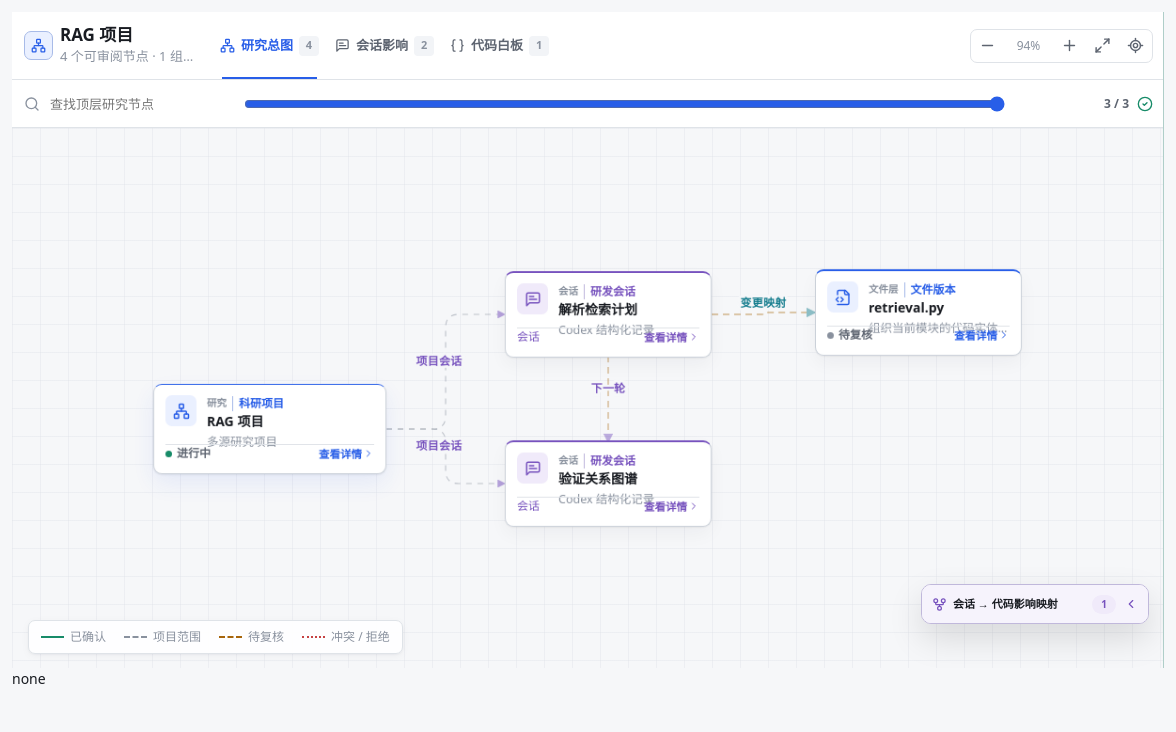
Scenario: ResearchMap visible review navigation › exposes explicit session-to-code impact mappings on the overview
The width and height of the screenshot is (1176, 732).
Click the button with aria-label "展开会话代码影响映射". click: (1035, 604)
box: [922, 585, 1148, 623]
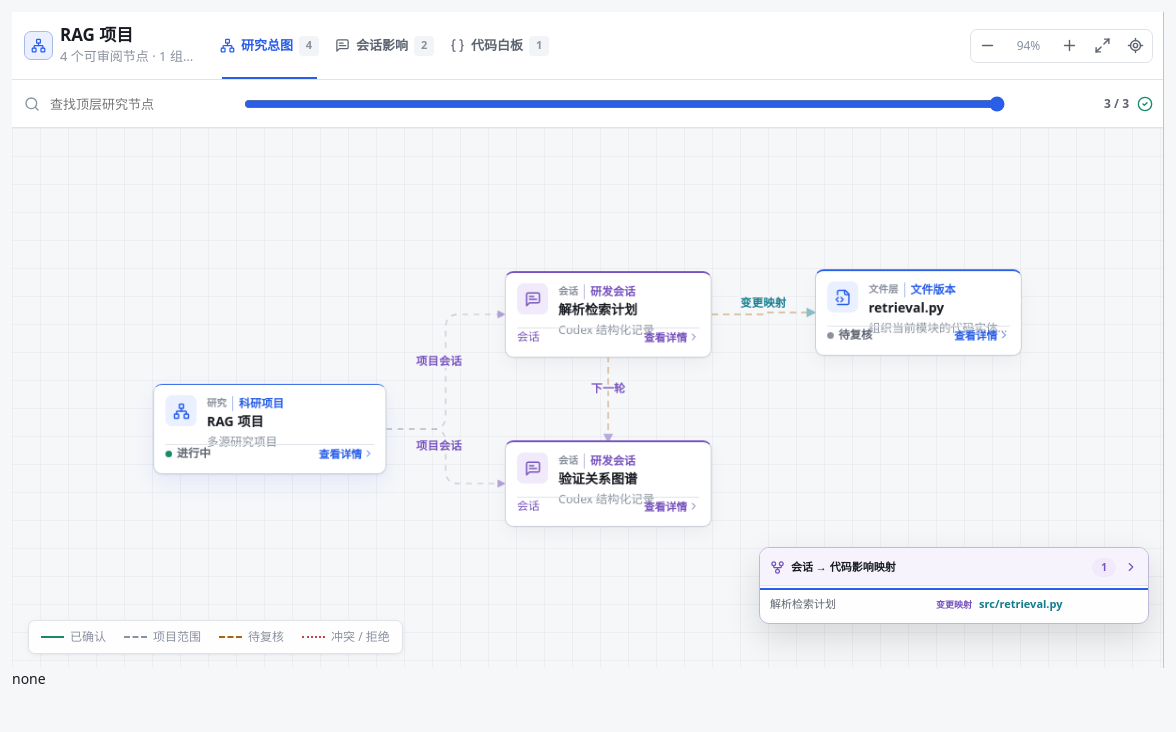
Now the button with aria-label "影响 src/retrieval.py" shows "变更映射"
Click the button with aria-label "影响 src/retrieval.py". click: (954, 604)
box: [760, 586, 1148, 623]
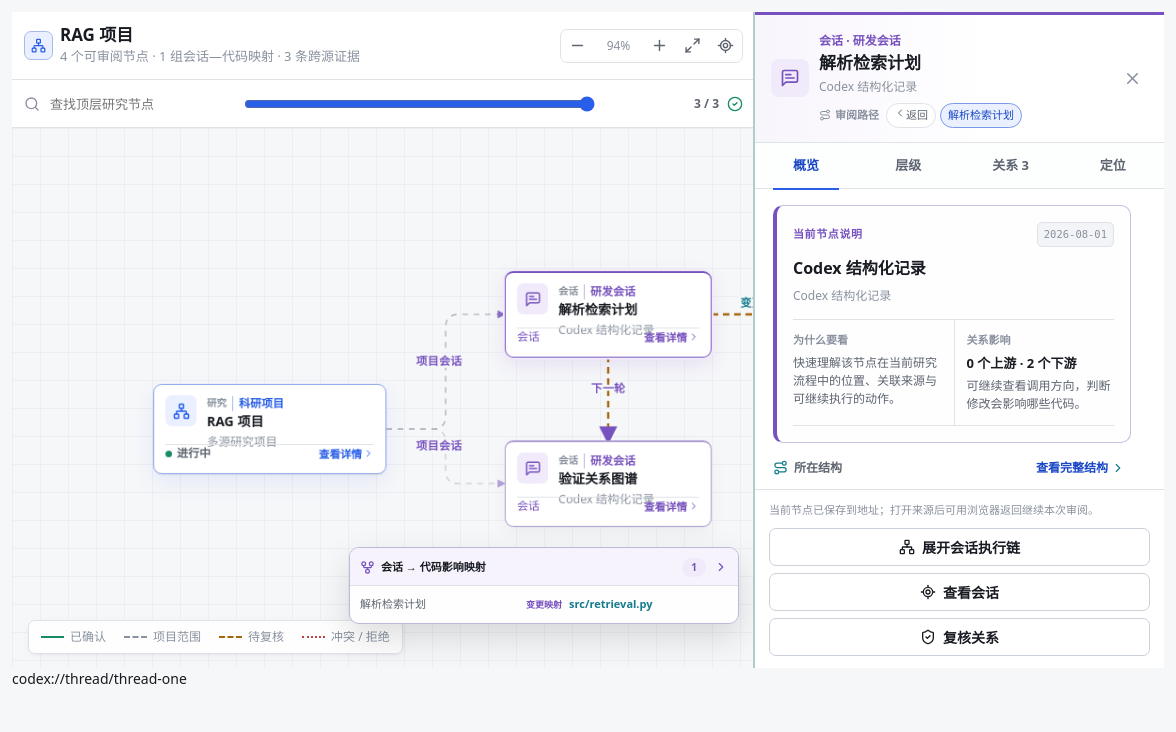
Now the element named "详情" is shown, box [754, 12, 1164, 668]
